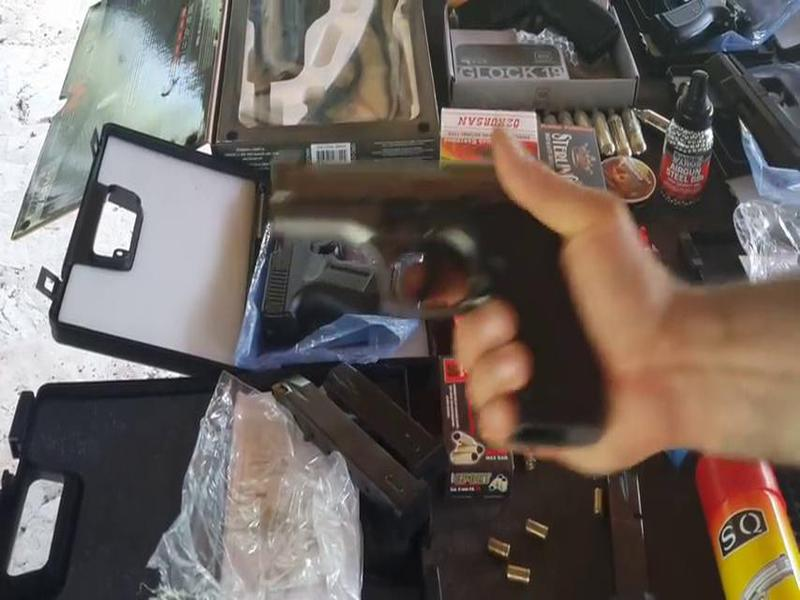Pistola: (244, 121, 592, 438)
